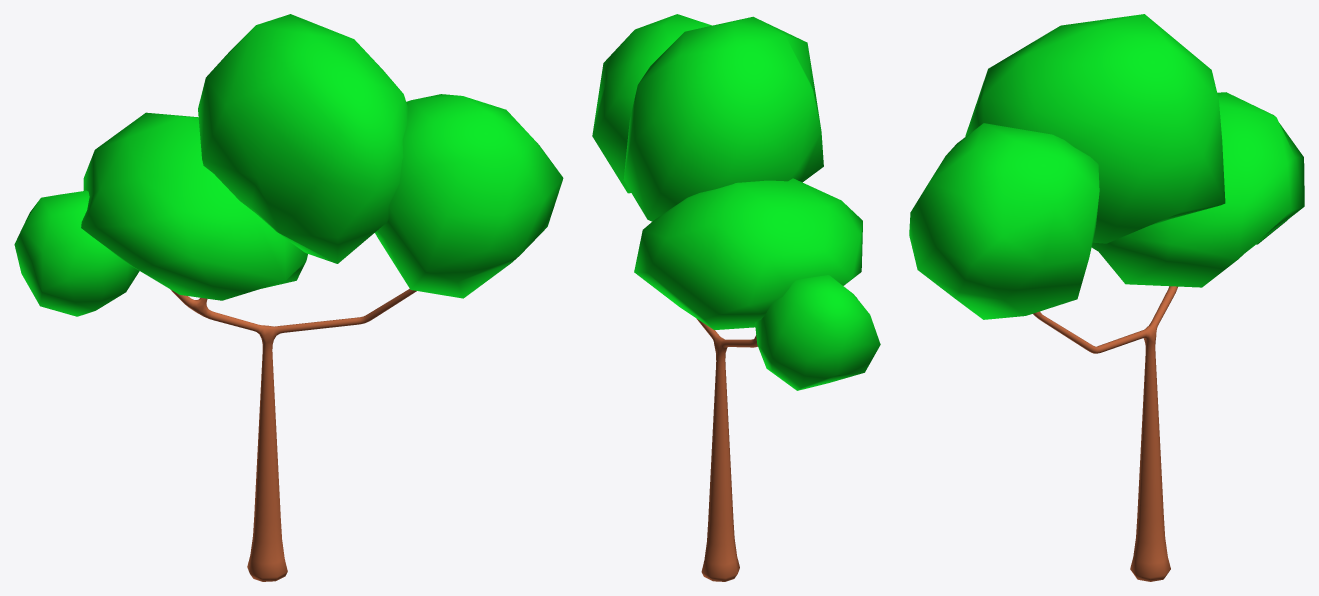
The model's file is TreeSmall.fbx.
The picture shows the model from 3 angles, left to right: view 1: azimuth 30°, elevation 25°; view 2: azimuth 150°, elevation 25°; view 3: azimuth 270°, elevation 25°; orthographic projection. The views are drawn at different scales.
Parts seen in each view (by area): view 1: Tree; view 2: Tree; view 3: Tree.
Boxes of the visible parts, box(x1,y1,x2,y2) form: Tree: box(14, 14, 563, 581); Tree: box(592, 14, 880, 581); Tree: box(909, 14, 1304, 581).
Size of the model in its own units: 32.88 by 43.56 by 28.04.
